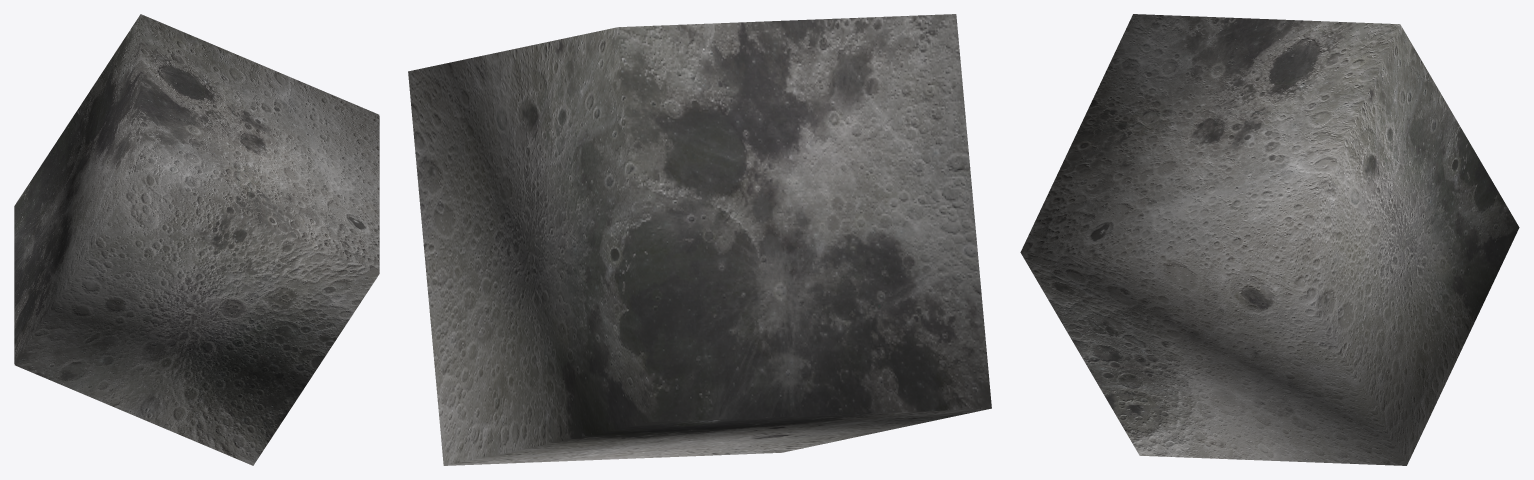
File: LUA.glb
The picture shows the model from 3 angles, left to right: view 1: azimuth 30°, elevation 25°; view 2: azimuth 150°, elevation 25°; view 3: azimuth 270°, elevation 25°; orthographic projection. The views are drawn at different scales.
Visible parts, largest first — view 1: Moon; view 2: Moon; view 3: Moon.
Part boxes in pixels (left/top/right/bottom): Moon: left=14, top=14, right=379, bottom=465; Moon: left=408, top=14, right=991, bottom=465; Moon: left=1020, top=14, right=1519, bottom=465.
Bounding box in the file's own units: 6.57 × 6.11 × 6.41.
Materials: 1 (1 with a texture image).
